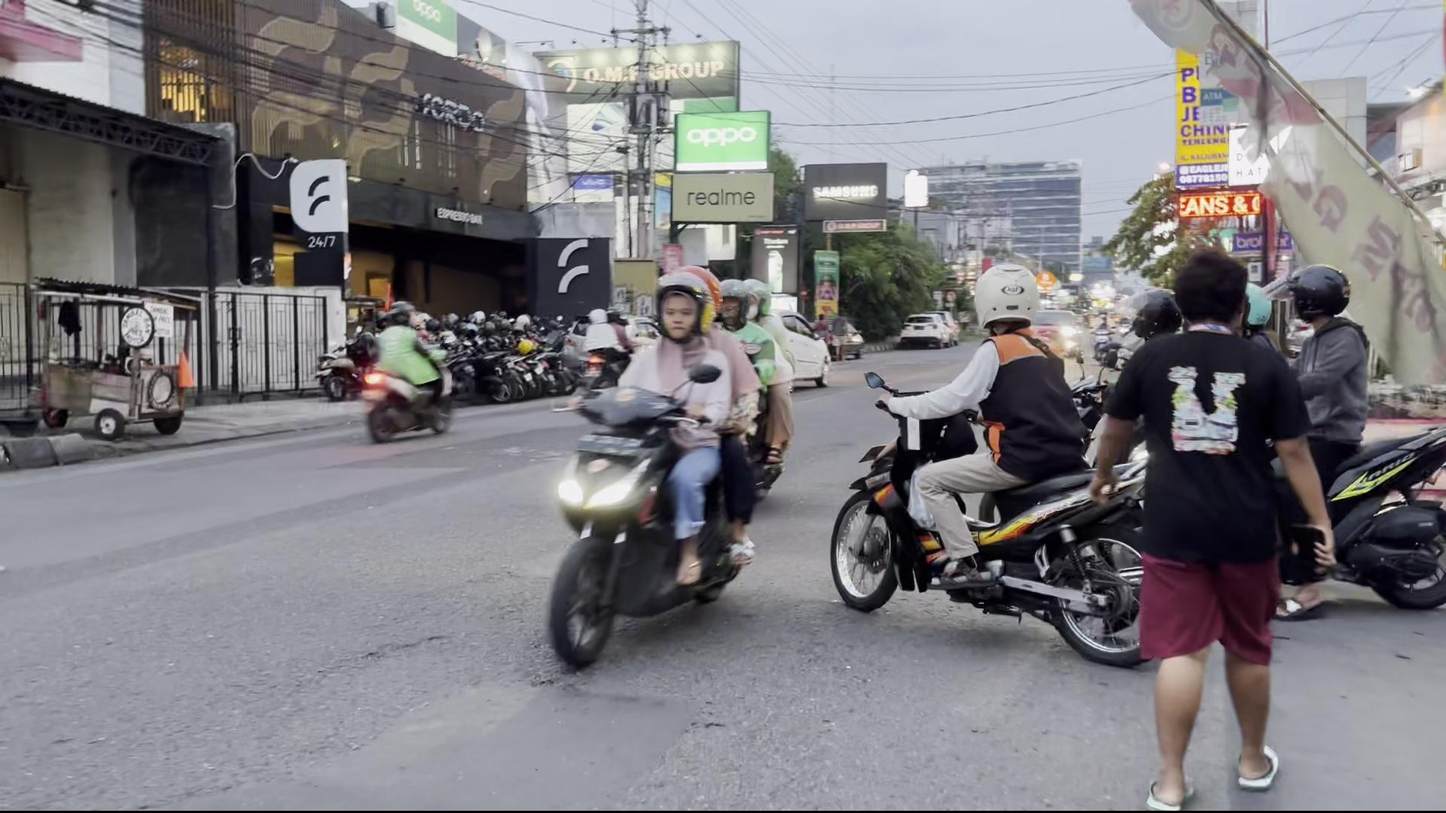helm: (644, 265, 726, 348), (970, 260, 1044, 340)
riding: (828, 258, 1168, 673), (533, 258, 777, 674)
